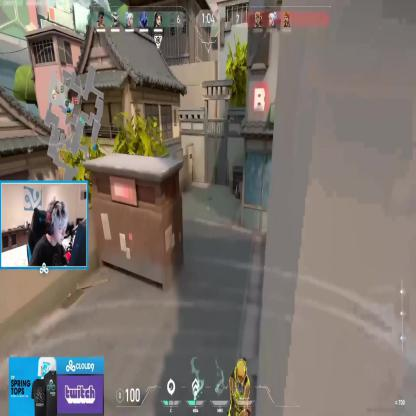enemy: (225, 355, 251, 416)
enemy_head: (236, 360, 246, 384)
